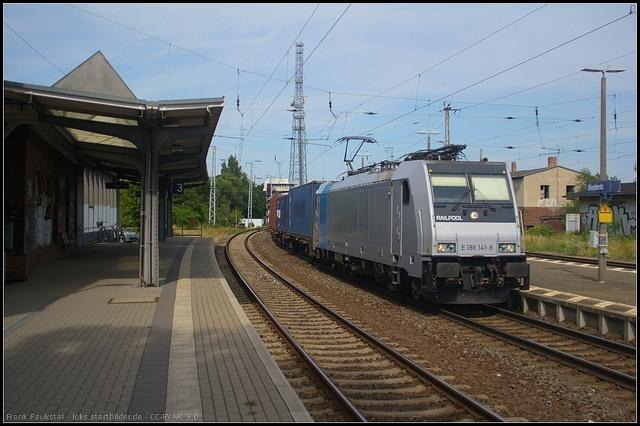bicycle: (106, 223, 125, 243), (96, 220, 110, 244)
